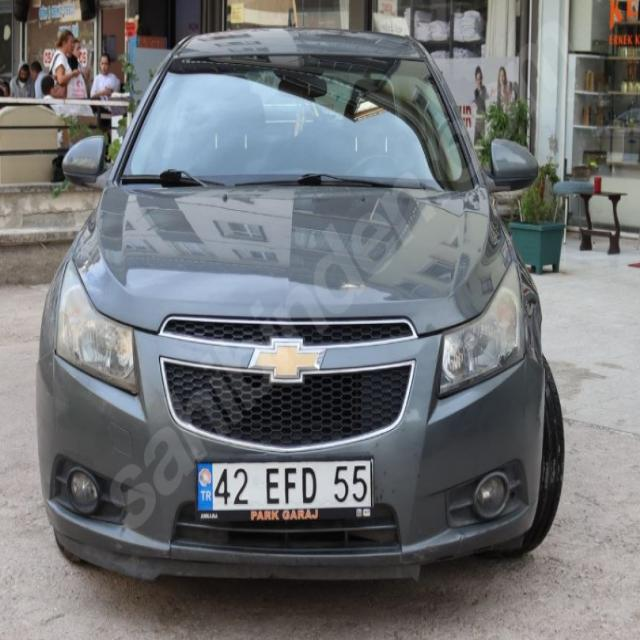chevrolet: (248, 336, 329, 387)
